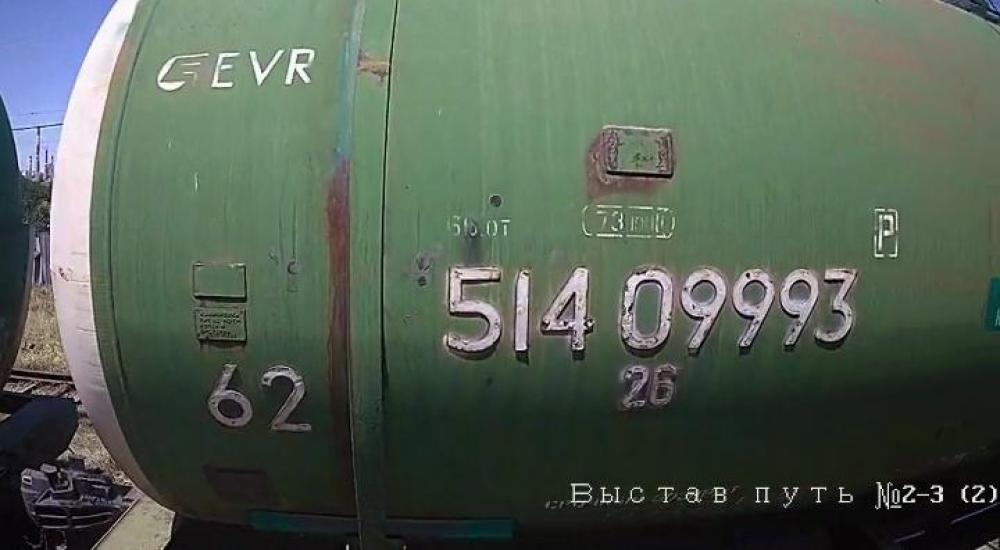Wagon-number: (438, 257, 866, 358)
